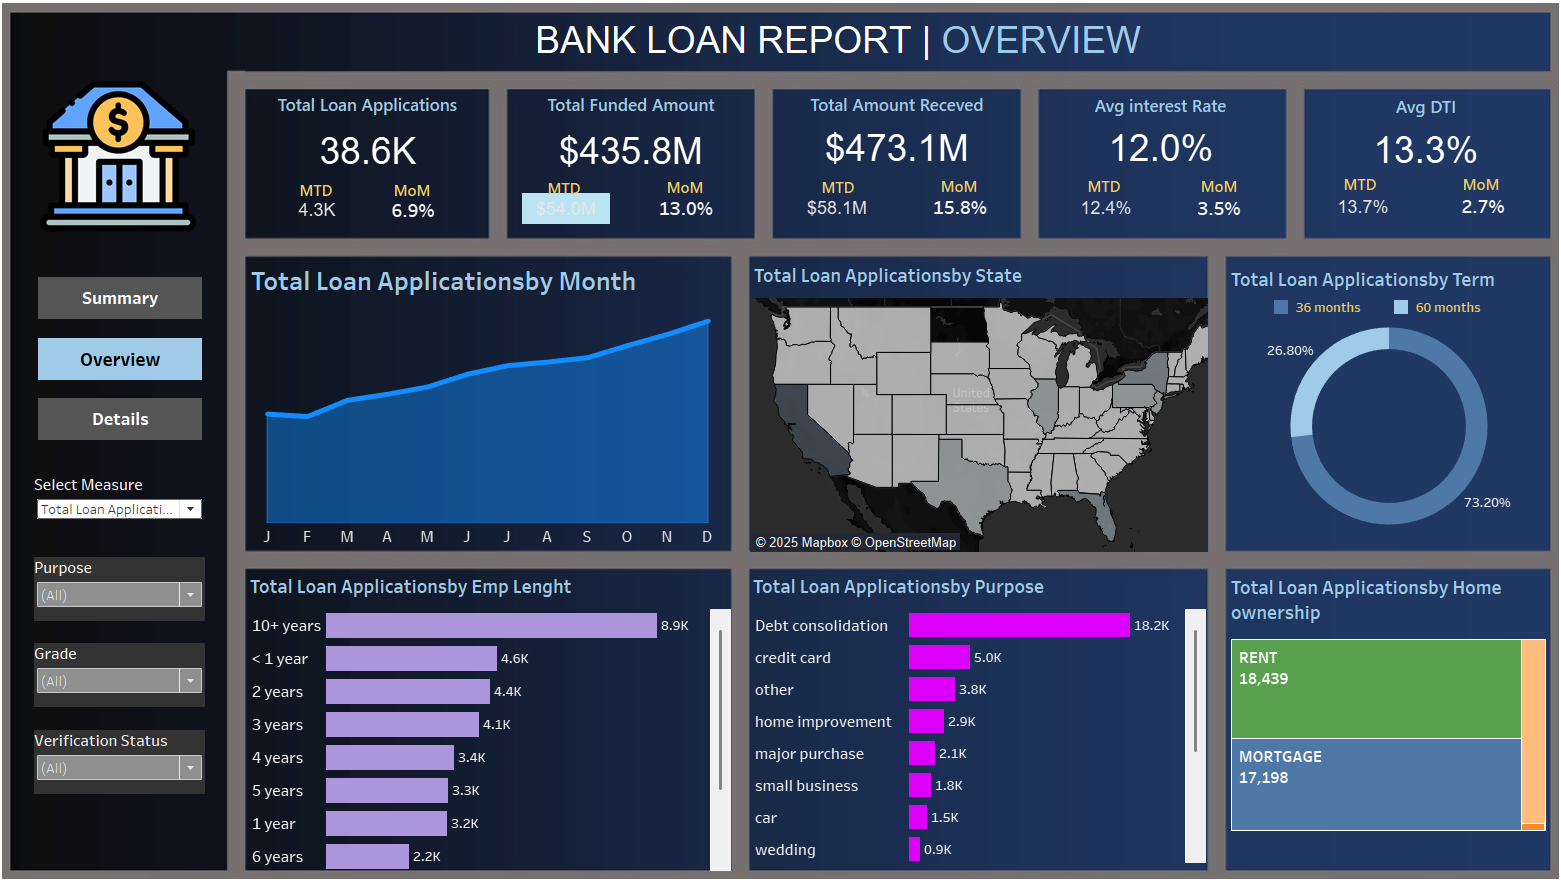

The page's visual inventory and layout, read from the dashboard file:
{"tool":"tableau","page":{"name":"OVERVIEW","canvas":[1600,900],"ordinal":1},"visuals":[{"type":"image","param":"Image/Tableau Background 2.jpg","box":[8,8,1584,884]},{"type":"text","box":[551,21,614,58]},{"type":"image","param":"Image/bank.png","box":[59,86,156,158]},{"type":"worksheet","title":"Total Loan Applications","mark":"Automatic","box":[265,98,243,87]},{"type":"worksheet","title":"Total Funded Amount","mark":"Automatic","box":[526,98,248,88]},{"type":"worksheet","title":"Total Amount Receved","mark":"Automatic","box":[791,98,250,82]},{"type":"worksheet","title":"Avg interest Rate","mark":"Automatic","box":[1056,99,247,80]},{"type":"worksheet","title":"Avg DTI","mark":"Automatic","box":[1322,100,246,82]},{"type":"text","box":[1357,178,44,30]},{"type":"text","box":[1478,178,44,30]},{"type":"text","box":[956,180,44,30]},{"type":"text","box":[1101,180,44,30]},{"type":"text","box":[1216,180,44,30]},{"type":"text","box":[682,181,44,30]},{"type":"text","box":[835,181,44,30]},{"type":"text","box":[561,182,44,30]},{"type":"text","box":[313,184,44,30]},{"type":"text","box":[409,184,44,30]},{"type":"worksheet","title":"MTD Total Loan Applications","mark":"Automatic","box":[296,197,79,44]},{"type":"worksheet","title":"MoM Total Amount Receved","mark":"Automatic","box":[940,199,77,34]},{"type":"worksheet","title":"MTD Avg DTI","mark":"Automatic","box":[1347,199,69,34]},{"type":"worksheet","title":"MoM Avg DTI","mark":"Automatic","box":[1468,200,68,29]},{"type":"worksheet","title":"MoM Loan Applications","mark":"Automatic","box":[395,201,73,36]},{"type":"worksheet","title":"MoM Total Funded Amount","mark":"Automatic","box":[668,201,73,32]},{"type":"worksheet","title":"MTD Total Amount Receved","mark":"Automatic","box":[818,201,76,31]},{"type":"worksheet","title":"MTD Avg Int Rate","mark":"Automatic","box":[1094,201,62,32]},{"type":"worksheet","title":"MoM Avg Int Rate","mark":"Automatic","box":[1202,201,71,32]},{"type":"worksheet","title":"MTD Total Funded Amount","mark":"Automatic","box":[541,202,88,31]},{"type":"worksheet","title":"State","mark":"Multipolygon","box":[769,267,458,294]},{"type":"worksheet","title":"Month","mark":"Area","rows":["Calculation_187462343358722048","Calculation_187462343358722048"],"cols":["issue_date"],"box":[266,268,481,289]},{"type":"worksheet","title":"Term","mark":"Pie","rows":["Calculation_1263259704700469249","Calculation_1263259704700506115"],"box":[1246,271,324,288]},{"type":"dashboard-object","box":[57,286,164,42]},{"type":"legend","title":"Term","param":"[federated.0jnou7y1eobgyh1b79fc714me99y].[none:term:nk]","box":[1290,306,250,31]},{"type":"dashboard-object","box":[57,347,164,42]},{"type":"dashboard-object","box":[57,407,164,42]},{"type":"parameter","param":"[Parameters].[Parameter 1]","box":[53,483,171,62]},{"type":"filter","title":"Avg DTI","param":"[federated.0jnou7y1eobgyh1b79fc714me99y].[none:purpose:nk]","box":[53,566,171,64]},{"type":"worksheet","title":"Emp Lenght","mark":"Automatic","rows":["emp_length"],"cols":["Calculation_187462343358722048"],"box":[265,578,485,302]},{"type":"worksheet","title":"Purpose","mark":"Automatic","rows":["purpose"],"cols":["Calculation_187462343358722048"],"box":[768,578,457,294]},{"type":"worksheet","title":"Home Own","mark":"Automatic","box":[1246,579,322,297]},{"type":"filter","title":"Avg DTI","param":"[federated.0jnou7y1eobgyh1b79fc714me99y].[none:grade:nk]","box":[53,652,171,64]},{"type":"filter","title":"Avg DTI","param":"[federated.0jnou7y1eobgyh1b79fc714me99y].[none:verification_status:nk]","box":[53,739,171,64]}]}

Visuals, with their boxes in screenshot pixels (x1, y1, x2, y2), scaled from the page's 1600x900 canvas onto the 1561x880 screenshot:
image: left=8, top=8, right=1553, bottom=872
text: left=538, top=21, right=1137, bottom=77
image: left=58, top=84, right=210, bottom=239
"Total Loan Applications" worksheet: left=259, top=96, right=496, bottom=181
"Total Funded Amount" worksheet: left=513, top=96, right=755, bottom=182
"Total Amount Receved" worksheet: left=772, top=96, right=1016, bottom=176
"Avg interest Rate" worksheet: left=1030, top=97, right=1271, bottom=175
"Avg DTI" worksheet: left=1290, top=98, right=1530, bottom=178
text: left=1324, top=174, right=1367, bottom=203
text: left=1442, top=174, right=1485, bottom=203
text: left=933, top=176, right=976, bottom=205
text: left=1074, top=176, right=1117, bottom=205
text: left=1186, top=176, right=1229, bottom=205
text: left=665, top=177, right=708, bottom=206
text: left=815, top=177, right=858, bottom=206
text: left=547, top=178, right=590, bottom=207
text: left=305, top=180, right=348, bottom=209
text: left=399, top=180, right=442, bottom=209
"MTD Total Loan Applications" worksheet: left=289, top=193, right=366, bottom=236
"MoM Total Amount Receved" worksheet: left=917, top=195, right=992, bottom=228
"MTD Avg DTI" worksheet: left=1314, top=195, right=1381, bottom=228
"MoM Avg DTI" worksheet: left=1432, top=196, right=1499, bottom=224
"MoM Loan Applications" worksheet: left=385, top=197, right=457, bottom=232
"MoM Total Funded Amount" worksheet: left=652, top=197, right=723, bottom=228
"MTD Total Amount Receved" worksheet: left=798, top=197, right=872, bottom=227
"MTD Avg Int Rate" worksheet: left=1067, top=197, right=1128, bottom=228
"MoM Avg Int Rate" worksheet: left=1173, top=197, right=1242, bottom=228
"MTD Total Funded Amount" worksheet: left=528, top=198, right=614, bottom=228
"State" worksheet (Multipolygon marks): left=750, top=261, right=1197, bottom=549
"Month" worksheet (Area marks): left=260, top=262, right=729, bottom=545
"Term" worksheet (Pie marks): left=1216, top=265, right=1532, bottom=547
dashboard-object: left=56, top=280, right=216, bottom=321
"Term" legend: left=1259, top=299, right=1502, bottom=330
dashboard-object: left=56, top=339, right=216, bottom=380
dashboard-object: left=56, top=398, right=216, bottom=439
parameter: left=52, top=472, right=219, bottom=533
"Avg DTI" filter: left=52, top=553, right=219, bottom=616
"Emp Lenght" worksheet: left=259, top=565, right=732, bottom=860
"Purpose" worksheet: left=749, top=565, right=1195, bottom=853
"Home Own" worksheet: left=1216, top=566, right=1530, bottom=857
"Avg DTI" filter: left=52, top=638, right=219, bottom=700
"Avg DTI" filter: left=52, top=723, right=219, bottom=785
